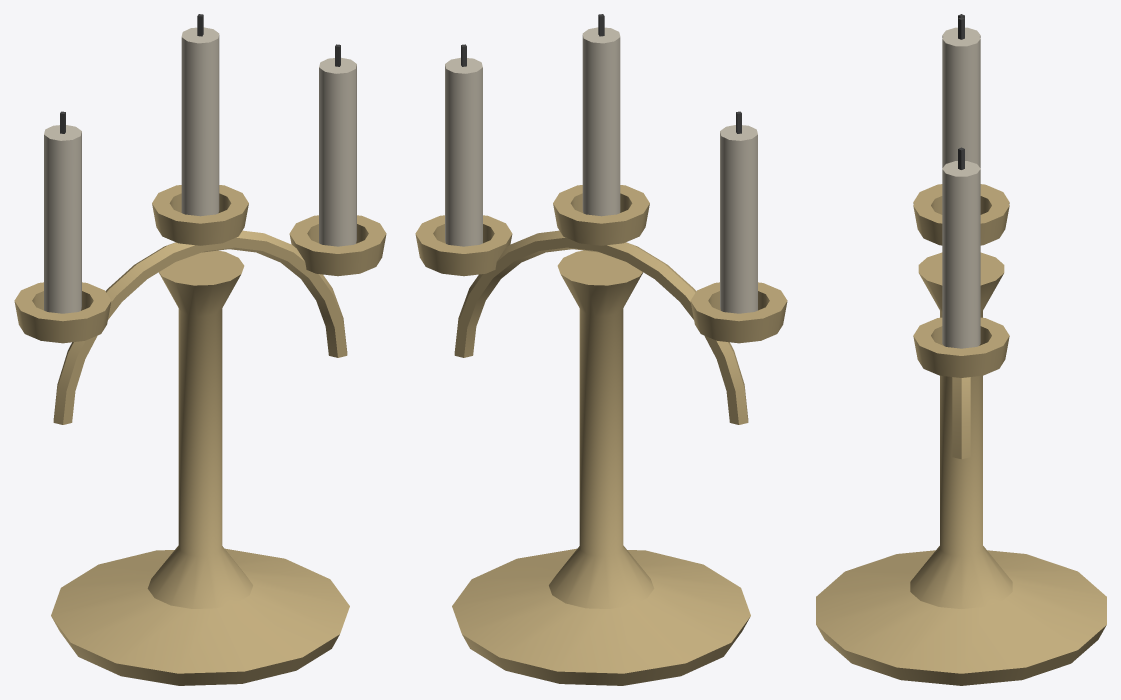
File: table-candelabra-v01.glb
3 renders of one model, left to right at view 1: azimuth 30°, elevation 25°; view 2: azimuth 150°, elevation 25°; view 3: azimuth 270°, elevation 25°, orthographic.
Parts seen in each view (by area): view 1: table-candelabra; view 2: table-candelabra; view 3: table-candelabra.
Boxes of the visible parts, x1,y1,x2,y2 form: table-candelabra: [14, 14, 386, 685]; table-candelabra: [415, 14, 787, 685]; table-candelabra: [816, 14, 1106, 685].
Bounding box in the file's own units: 0.47 × 0.765 × 0.3315.
